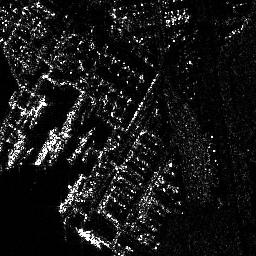ship: (57, 173, 84, 213), (69, 125, 96, 163), (34, 126, 59, 166), (77, 226, 102, 250), (8, 134, 25, 168), (29, 92, 44, 128)
